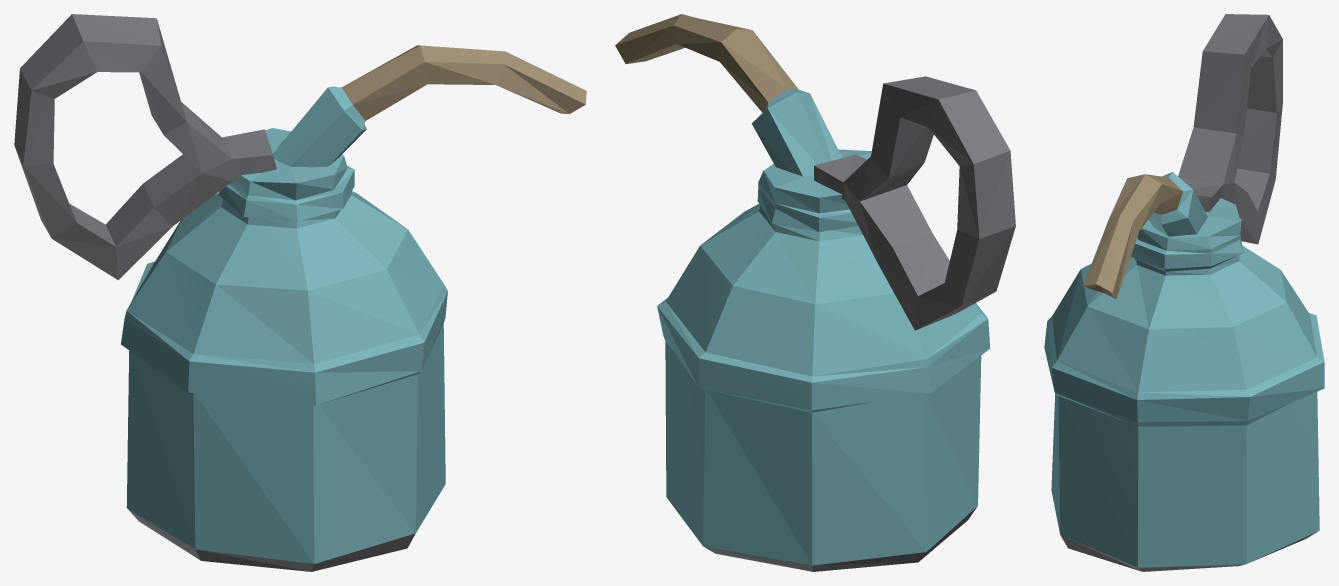
Rendered from trinketEster.fbx.
The picture shows the model from 3 angles, left to right: view 1: azimuth 30°, elevation 25°; view 2: azimuth 150°, elevation 25°; view 3: azimuth 270°, elevation 25°; orthographic projection. The views are drawn at different scales.
Visible parts, largest first — view 1: trinketEster; view 2: trinketEster; view 3: trinketEster.
Part boxes in pixels (x1,y1,x2,y2): trinketEster: (14,14,586,571); trinketEster: (615,14,1015,571); trinketEster: (1044,14,1324,571).
Size of the model in its own units: 1.54 by 1.53 by 0.8843.
1 material, 1 textured.
